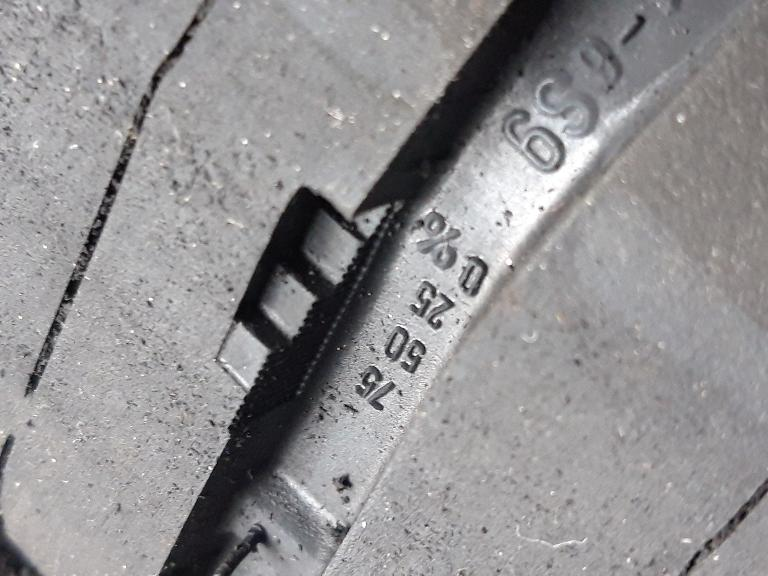temoin:75: (201, 176, 428, 419)
